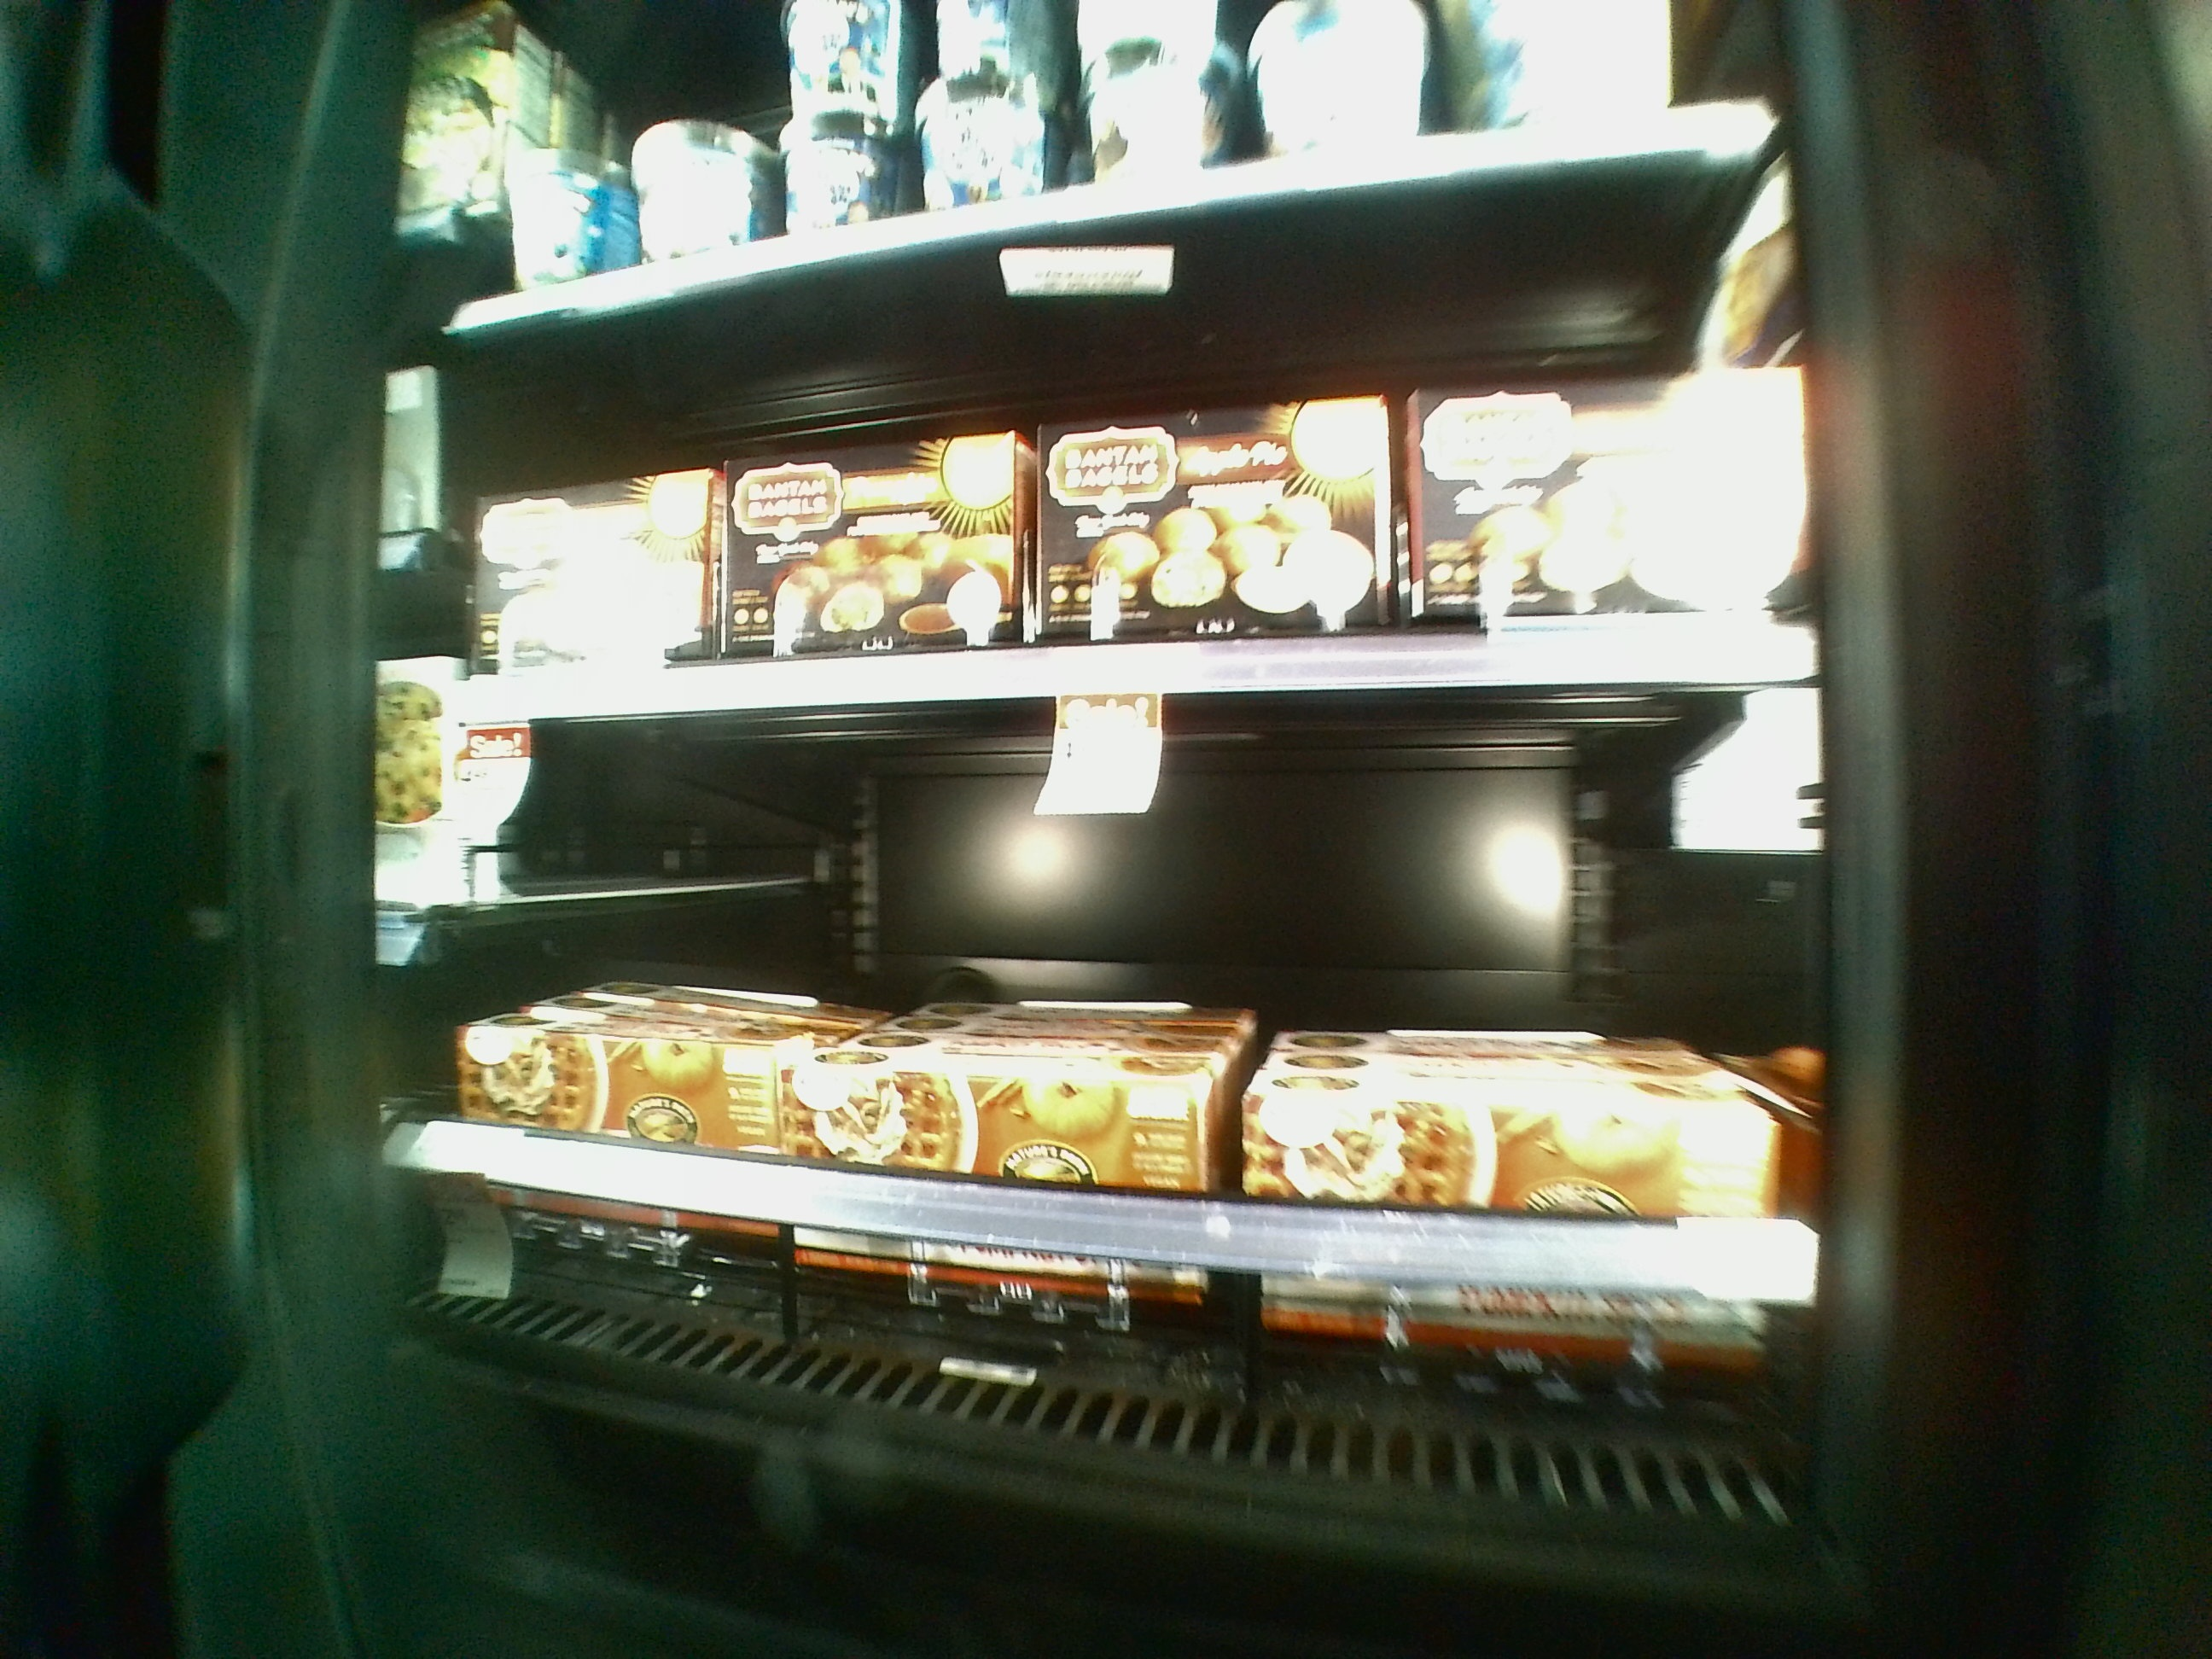shelf: (456, 669, 1820, 1425), (439, 277, 1822, 683)
